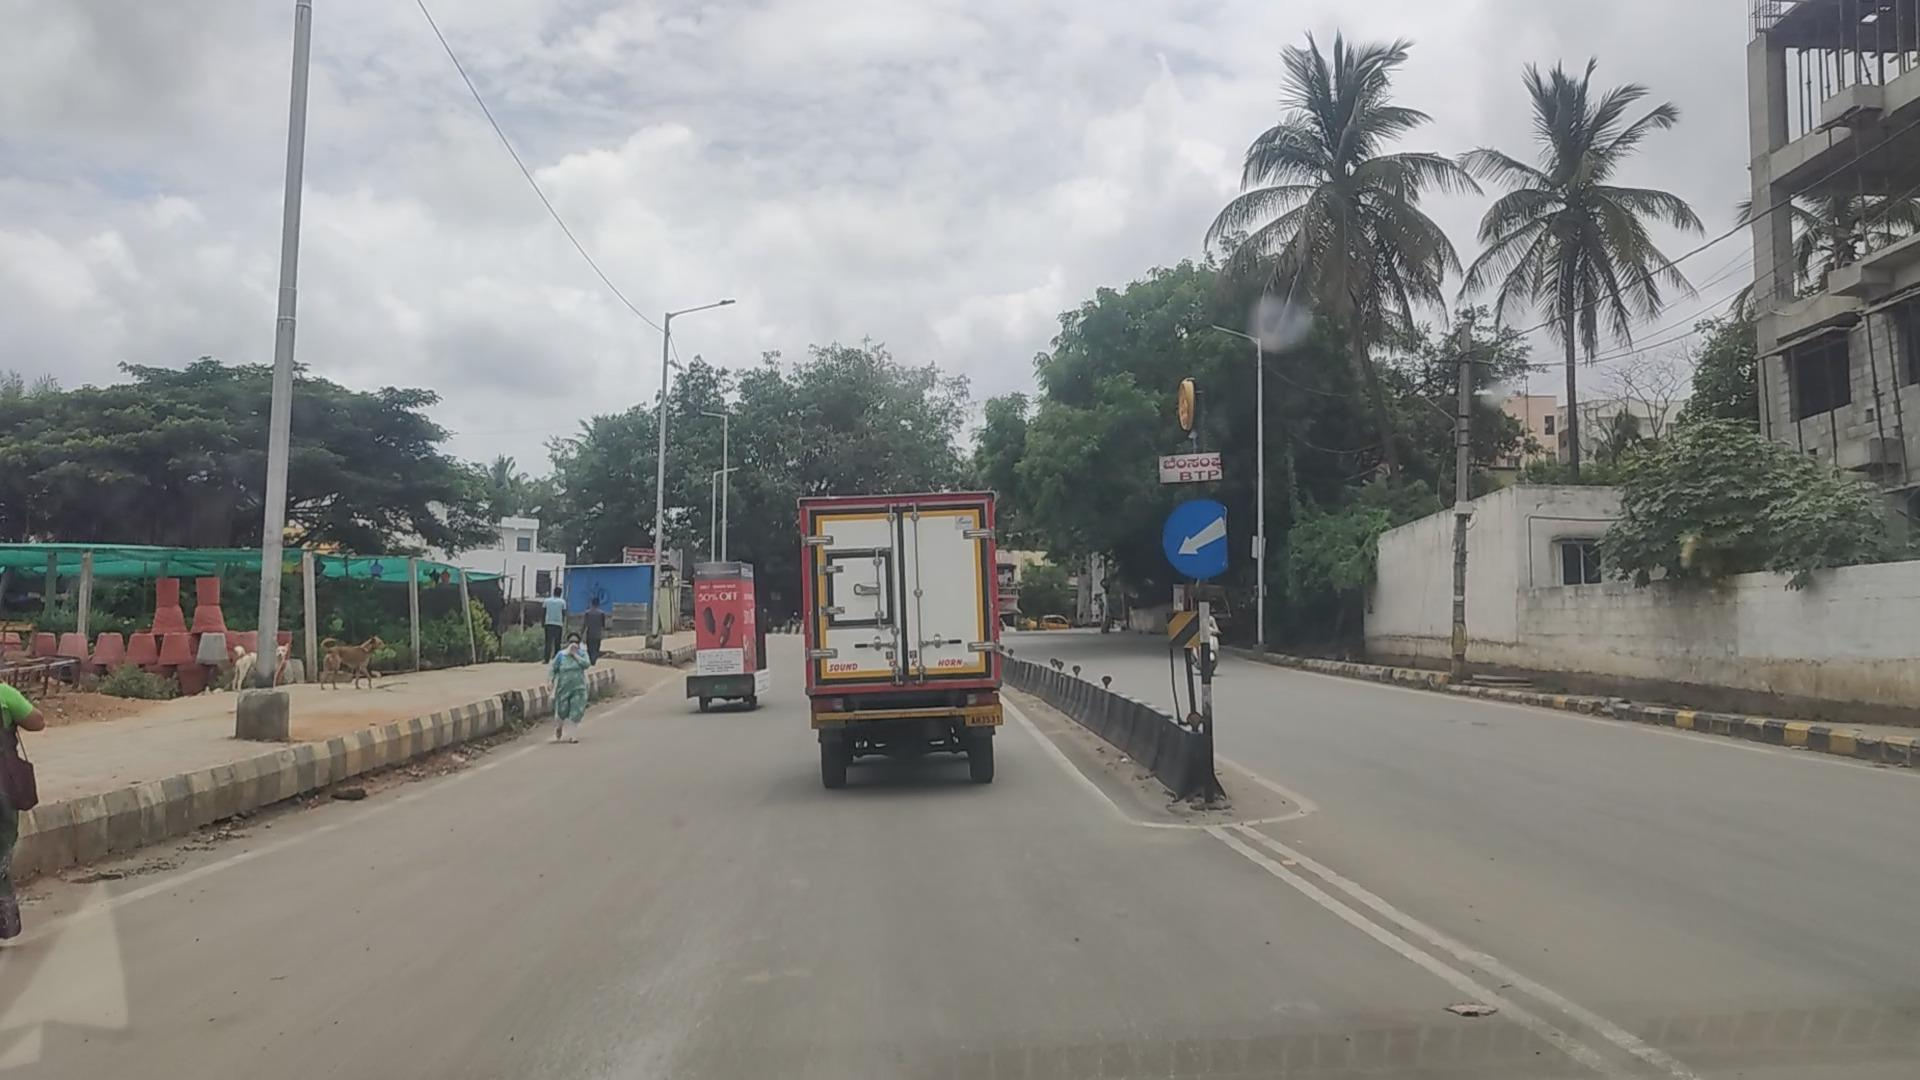HMV: (800, 475, 1029, 829)
LMV: (674, 542, 770, 728)
